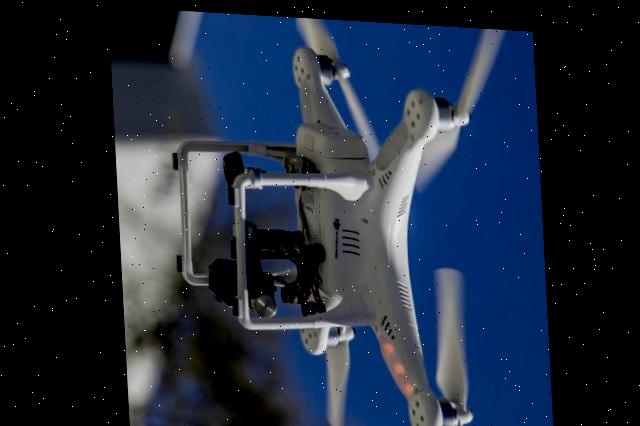drone: (156, 14, 497, 426)
